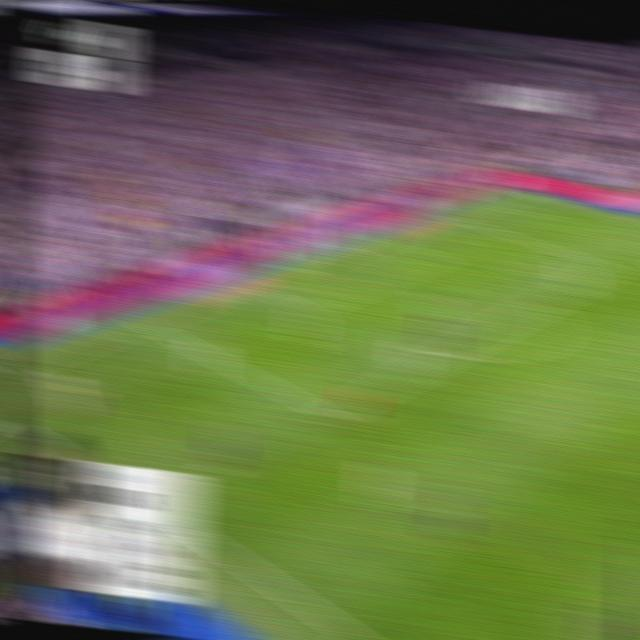bigarea_bottom_inner: (315, 403, 347, 428)
bigarea_bottom_outter: (131, 311, 161, 333)
bigarea_top_inner: (596, 258, 622, 274)
bigarea_top_outter: (440, 208, 466, 220)
bottom_arc_area_intersection: (430, 343, 461, 364)
corner: (504, 185, 531, 196)
smallarea_top_inner: (422, 248, 447, 262)
top_arc_area_intersection: (528, 292, 555, 310)
